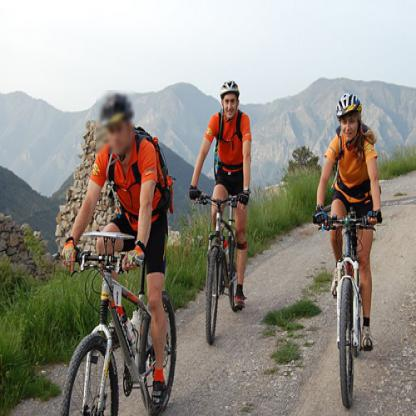Helmet: (331, 86, 375, 150), (99, 90, 140, 157), (213, 79, 243, 124)
